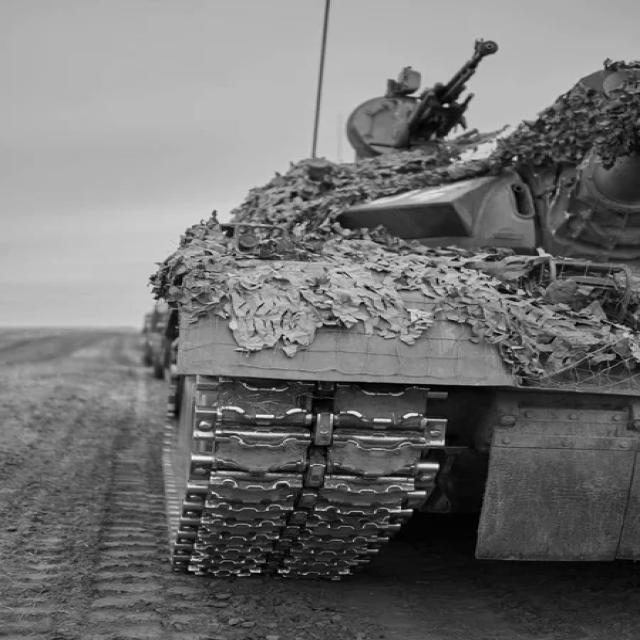Tank: (143, 48, 640, 595)
